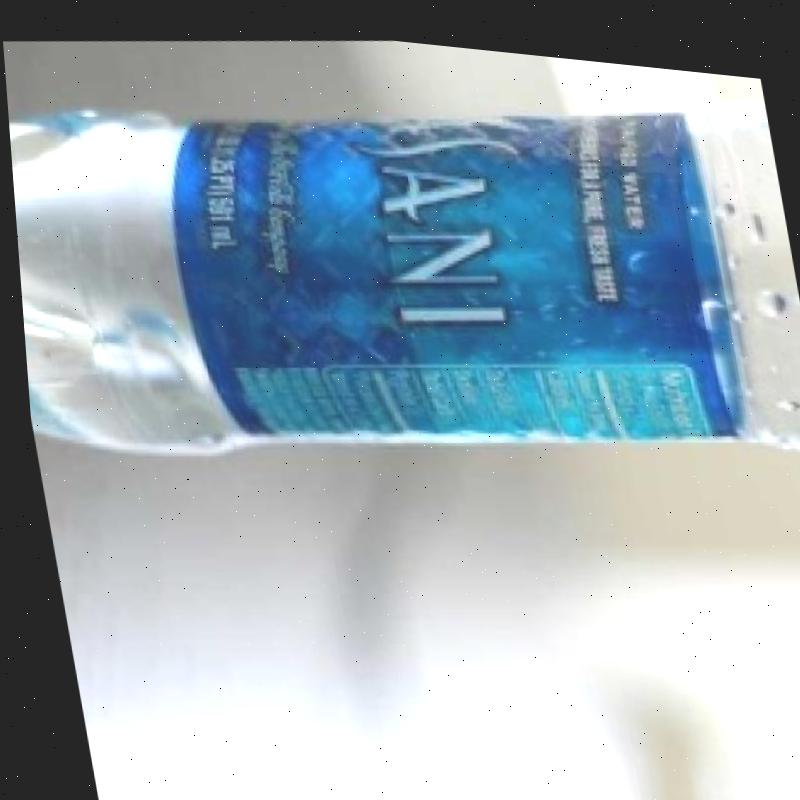botella: (1, 22, 800, 517)
